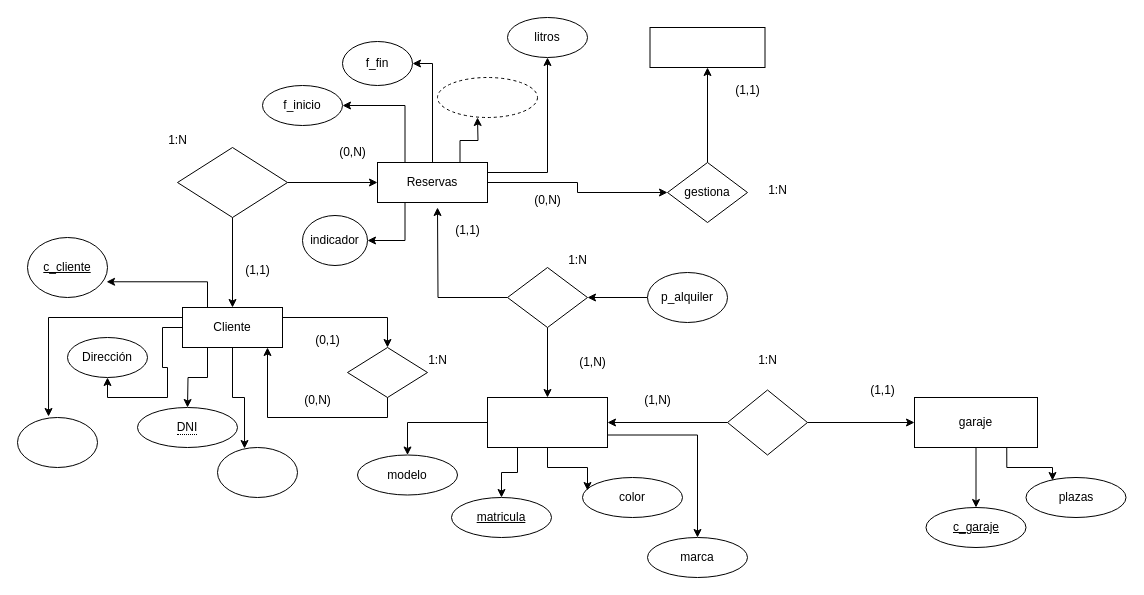
Some shapes in this 1144 by 595 pixel diagram are drawn without their labels. Each missing label, with the box of its shape:
Agencia: (649, 26, 765, 68)
asigna: (726, 389, 808, 455)
avala: (346, 346, 428, 398)
Coche: (486, 396, 608, 448)
involucra: (506, 266, 588, 328)
nombre: (216, 446, 298, 498)
p_total: (436, 76, 538, 118)
Realiza: (176, 146, 288, 218)
Telefono: (16, 416, 98, 468)
